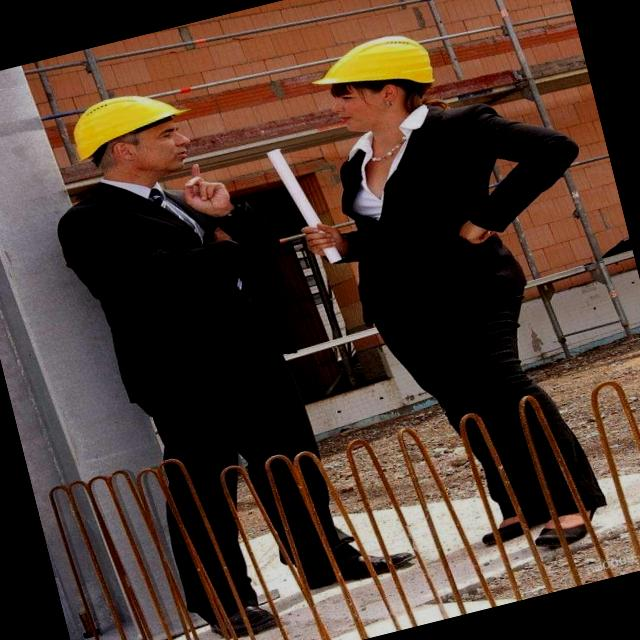helmet: (37, 76, 197, 174), (306, 22, 446, 112)
no-vest: (311, 96, 562, 404), (45, 165, 294, 448)
